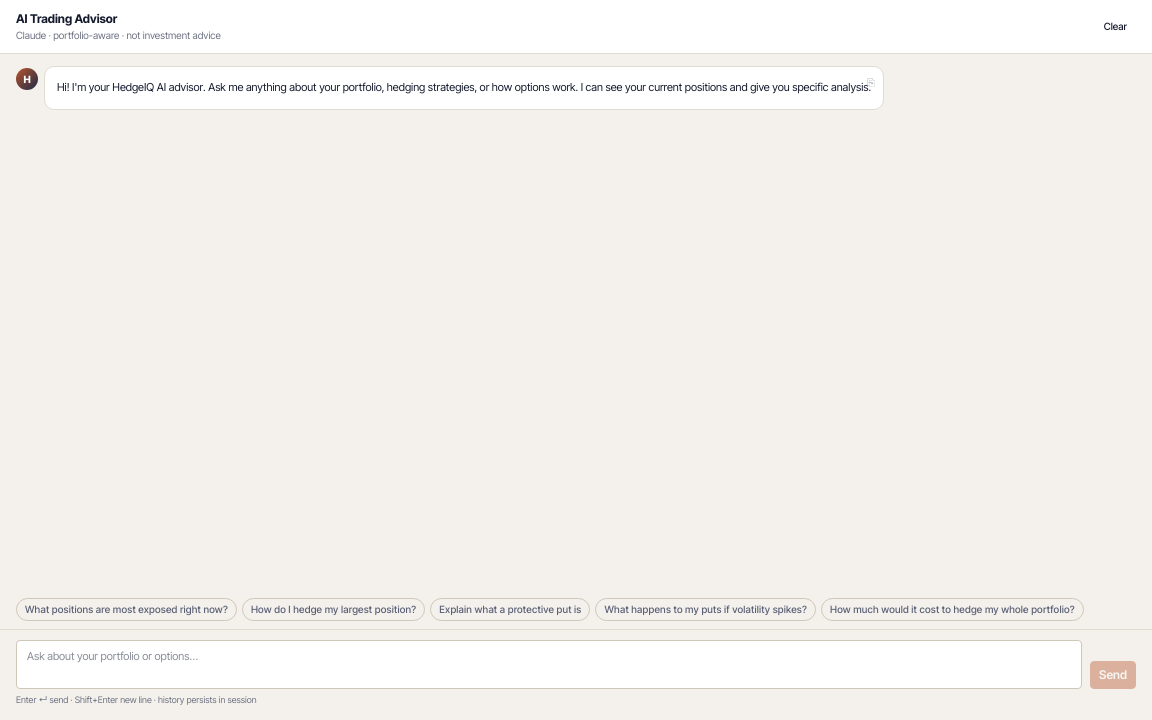
Scenario: AIChat — error states › shows an error message when API returns 429 (daily limit)
Type "What should I buy?" into the text box. click: (549, 664)
box: left=16, top=640, right=1082, bottom=688
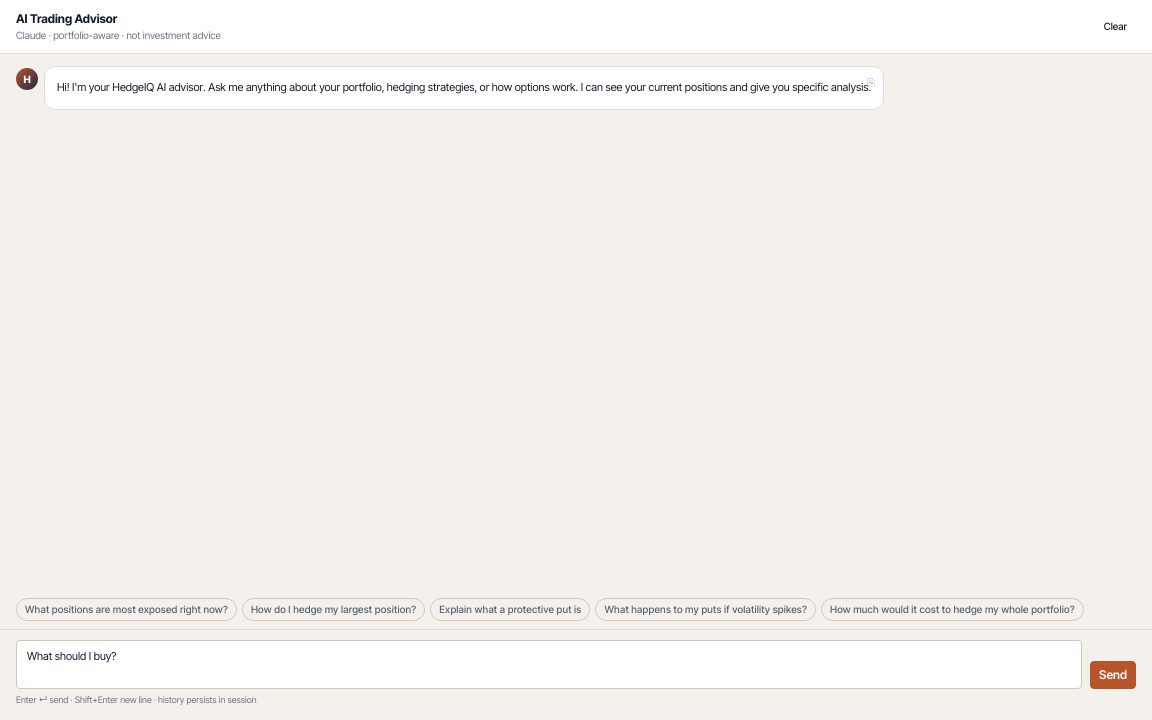
Press Enter in the text box, box left=16, top=640, right=1082, bottom=688
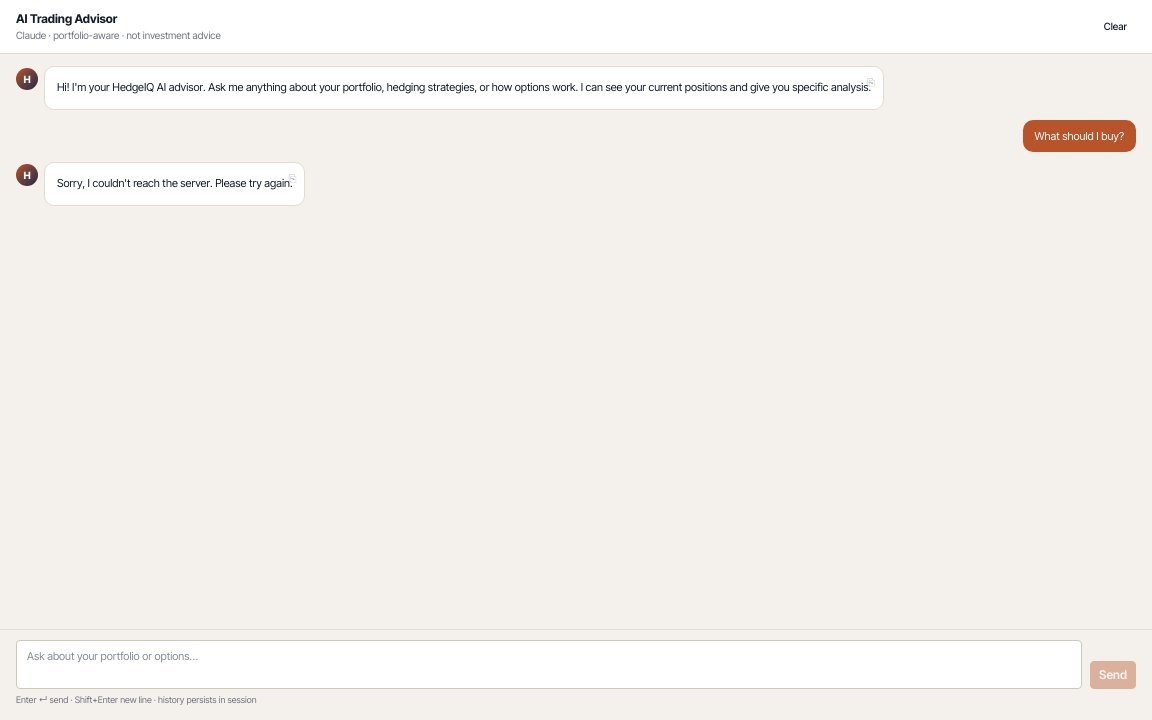
Expected: the text "Sorry, I couldn't reach the server. Please try again." is shown, left=57, top=175, right=292, bottom=193
